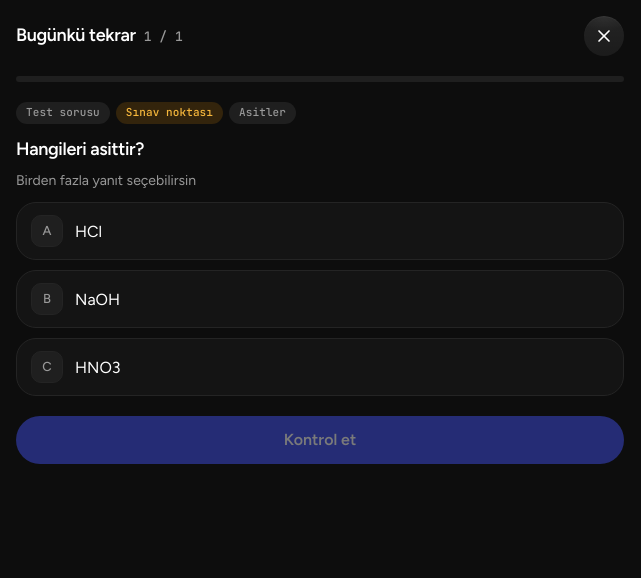
Test: tekrar oturumu › çok cevaplıda seçimler açılıp kapanır; dizi gönderilir
Expected: the text "Sınav noktası" is shown, [116, 102, 223, 124]
Click the checkbox labelled "B NaOH".
click(47, 299)  # box [16, 270, 624, 328]
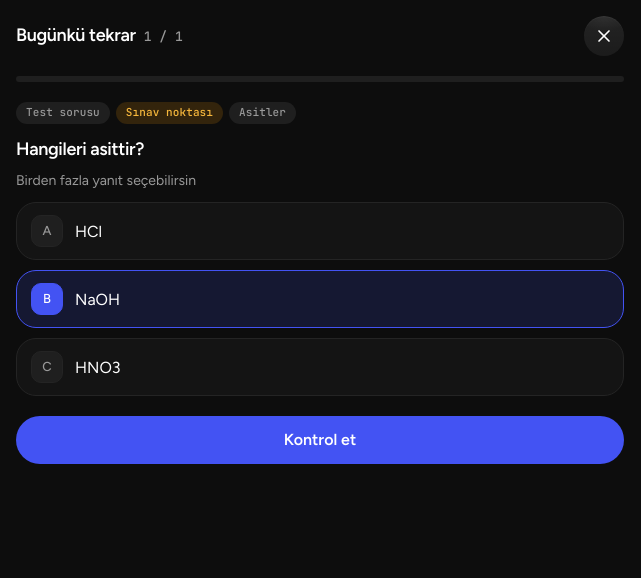
Click the checkbox labelled "A HCl".
click(47, 231)  # box [16, 202, 624, 260]
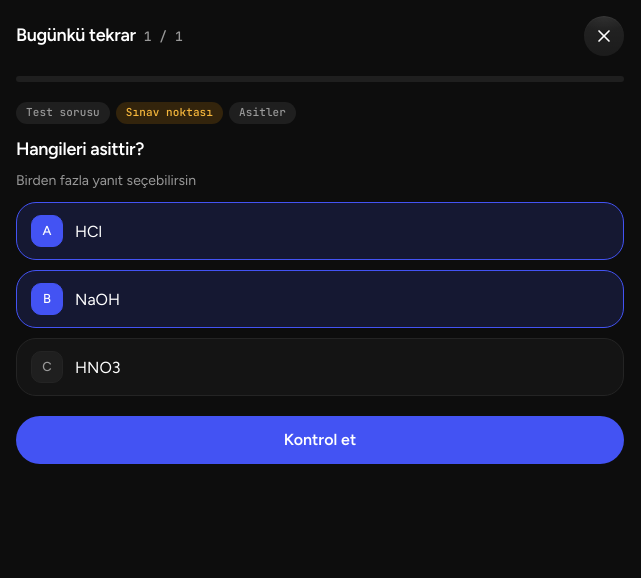
Click the checkbox labelled "B NaOH".
click(47, 299)  # box [16, 270, 624, 328]
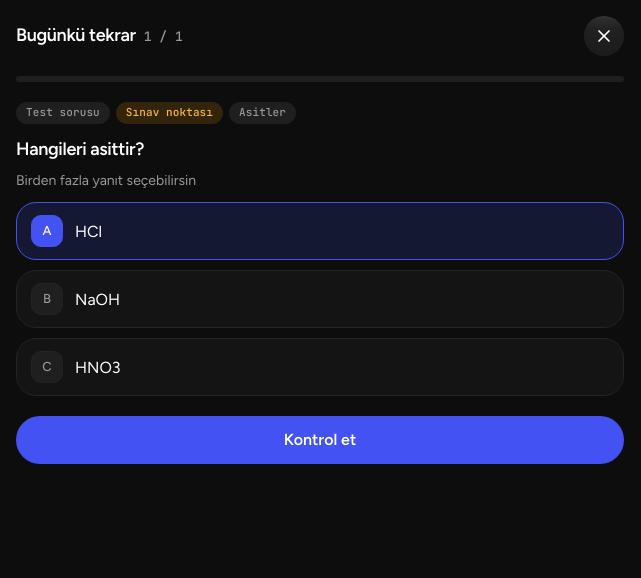
Click the checkbox labelled "C HNO3".
click(47, 367)  # box [16, 338, 624, 396]
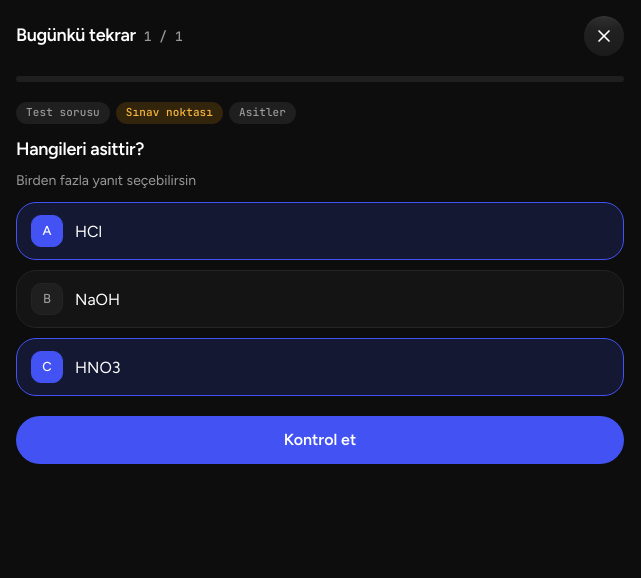
Click the button "Kontrol et".
click(320, 440)  # box [16, 416, 624, 464]
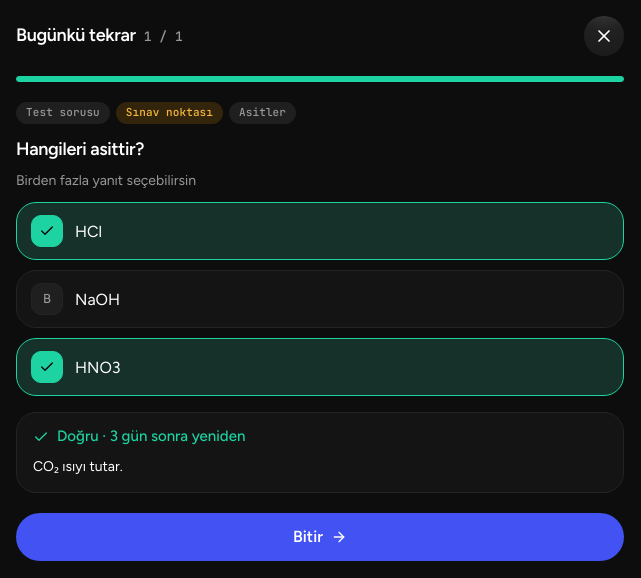
Result: the text "Doğru · 3 gün sonra yeniden" is shown at [33, 427, 245, 445]
